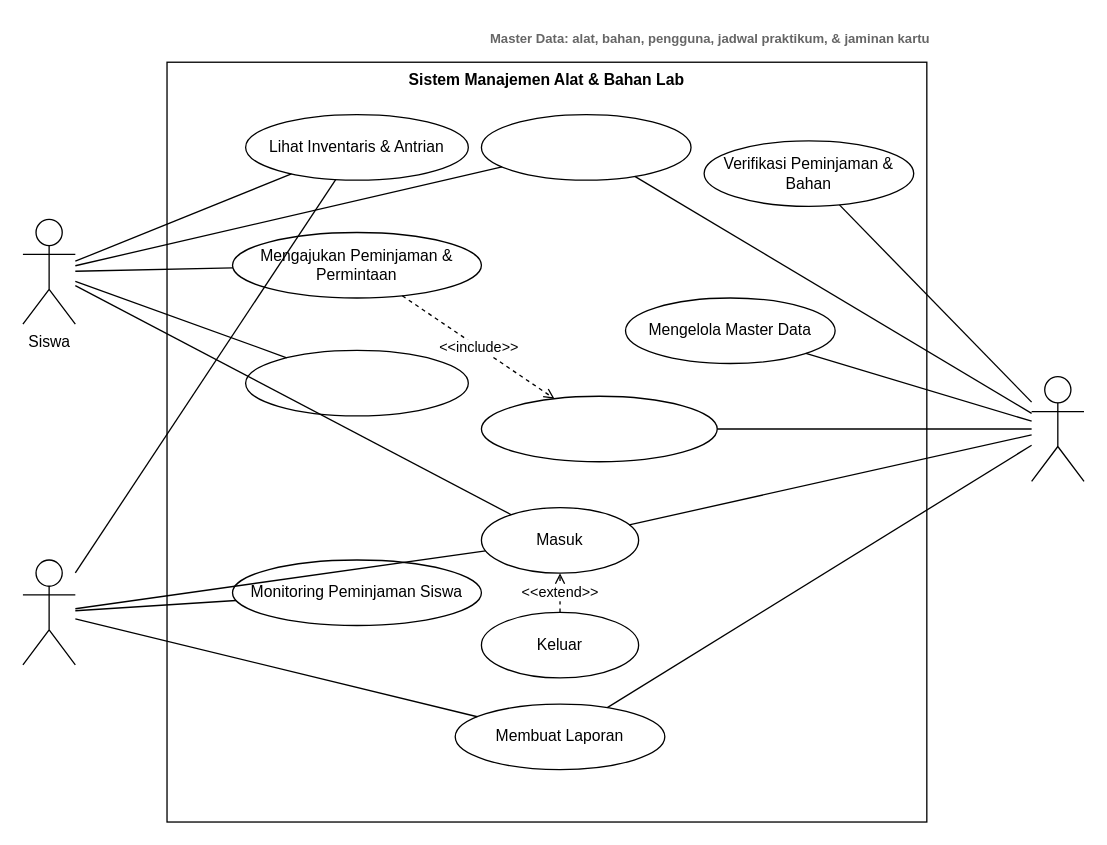
Image size: 1107x845. Some labels were removed from this diagram. Here are the shapes that lost their labels. From the top down, the centre of each, then its label:
At point (585, 146): "Pengembalian Alat".
At point (356, 382): "Kelola Peminjaman Saya".
At point (598, 428): "Kelola Antrian Round Robin".
At point (1057, 428): "Admin".
At point (48, 612): "Guru".
